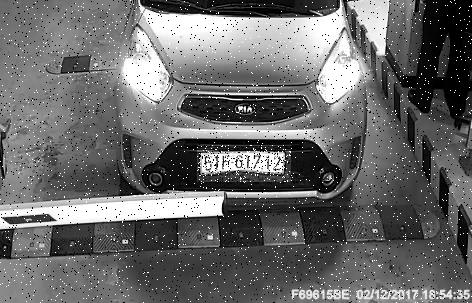License-plate: (199, 146, 294, 183)
